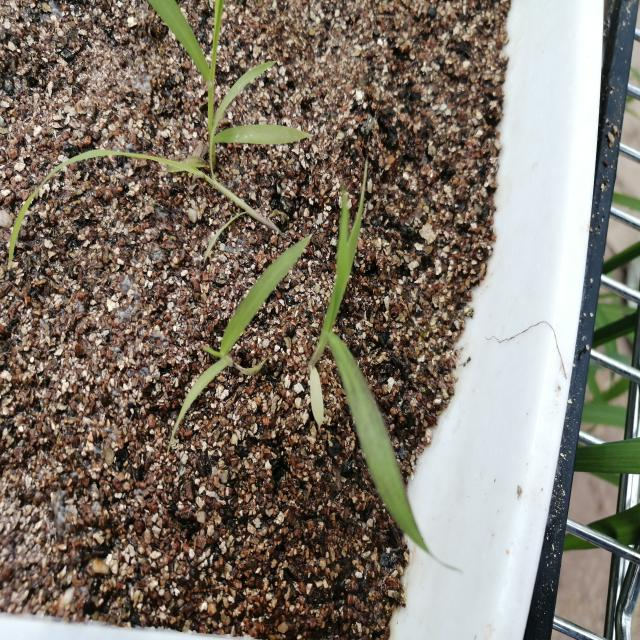crabgrass: (289, 149, 439, 574), (140, 2, 298, 162)
